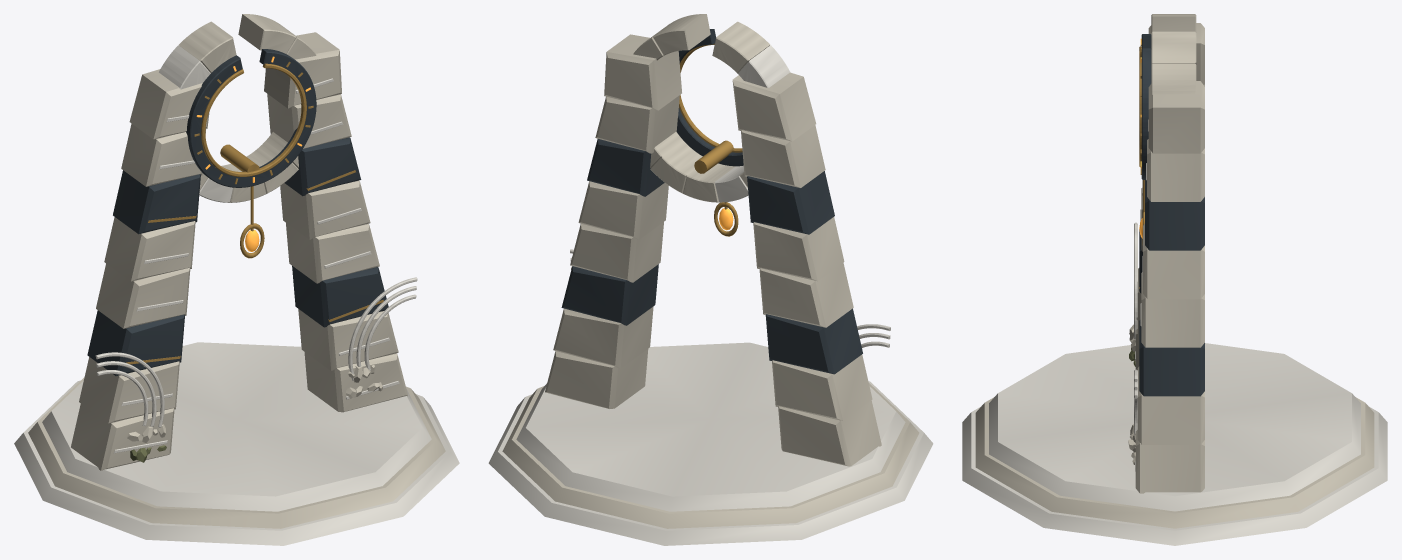
The model's file is wind-shrine.glb.
3 views of the same model, side by side, from view 1: azimuth 30°, elevation 25°; view 2: azimuth 150°, elevation 25°; view 3: azimuth 270°, elevation 25° (orthographic).
Visible parts, largest first — view 1: ten-sided foundation 2, ten-sided foundation 0, ten-sided foundation 1, recessed slate meridian track, pier -1 stratum 3, pier -1 stratum 4, pier -1 stratum 2, pier -1 stratum 1, pier -1 stratum 5, pier -1 stratum 0, pier 1 stratum 3, pier 1 stratum 2 (+18 smaller); view 2: ten-sided foundation 2, ten-sided foundation 0, ten-sided foundation 1, pier -1 stratum 0, pier -1 stratum 1, pier -1 stratum 2, pier -1 stratum 7, pier -1 stratum 3, pier 1 stratum 7, pier 1 stratum 0, pier 1 stratum 1, pier -1 stratum 4 (+15 smaller); view 3: ten-sided foundation 2, ten-sided foundation 0, ten-sided foundation 1, pier 1 stratum 7, pier 1 stratum 0, pier 1 stratum 1, pier 1 stratum 2, pier 1 stratum 3, pier 1 stratum 4, pier 1 stratum 5, pier 1 stratum 6, carved crown voussoir 12 (+4 smaller).
Part boxes in pixels (<box>): ten-sided foundation 2: <box>42,342,431,511</box>; ten-sided foundation 0: <box>14,380,459,545</box>; ten-sided foundation 1: <box>28,377,445,528</box>; recessed slate meridian track: <box>186,49,316,187</box>; pier -1 stratum 3: <box>96,263,190,328</box>; pier -1 stratum 4: <box>104,217,195,281</box>; pier -1 stratum 2: <box>87,310,184,375</box>; pier -1 stratum 1: <box>79,357,179,423</box>; pier -1 stratum 5: <box>113,170,200,234</box>; pier -1 stratum 0: <box>71,403,174,470</box>; pier 1 stratum 3: <box>286,223,379,283</box>; pier 1 stratum 2: <box>292,266,388,327</box>; ten-sided foundation 2: <box>516,342,905,511</box>; ten-sided foundation 0: <box>488,381,933,545</box>; ten-sided foundation 1: <box>502,383,919,528</box>; pier -1 stratum 0: <box>778,400,881,466</box>; pier -1 stratum 1: <box>772,354,872,420</box>; pier -1 stratum 2: <box>765,308,862,374</box>; pier -1 stratum 7: <box>732,72,816,141</box>; pier -1 stratum 3: <box>759,262,853,327</box>; pier 1 stratum 7: <box>604,34,681,110</box>; pier 1 stratum 0: <box>545,349,648,408</box>; pier 1 stratum 1: <box>553,306,653,368</box>; pier -1 stratum 4: <box>753,217,844,281</box>; ten-sided foundation 2: <box>989,343,1360,511</box>; ten-sided foundation 0: <box>962,406,1387,545</box>; ten-sided foundation 1: <box>975,397,1374,528</box>; pier 1 stratum 7: <box>1148,81,1204,153</box>; pier 1 stratum 0: <box>1135,430,1204,493</box>; pier 1 stratum 1: <box>1137,366,1204,444</box>; pier 1 stratum 2: <box>1139,320,1204,396</box>; pier 1 stratum 3: <box>1141,272,1204,347</box>; pier 1 stratum 4: <box>1143,224,1204,299</box>; pier 1 stratum 5: <box>1145,177,1204,250</box>; pier 1 stratum 6: <box>1147,139,1204,201</box>; carved crown voussoir 12: <box>1151,31,1196,64</box>.
Bounding box in the file's own units: 5.74 × 6.05 × 5.46.
